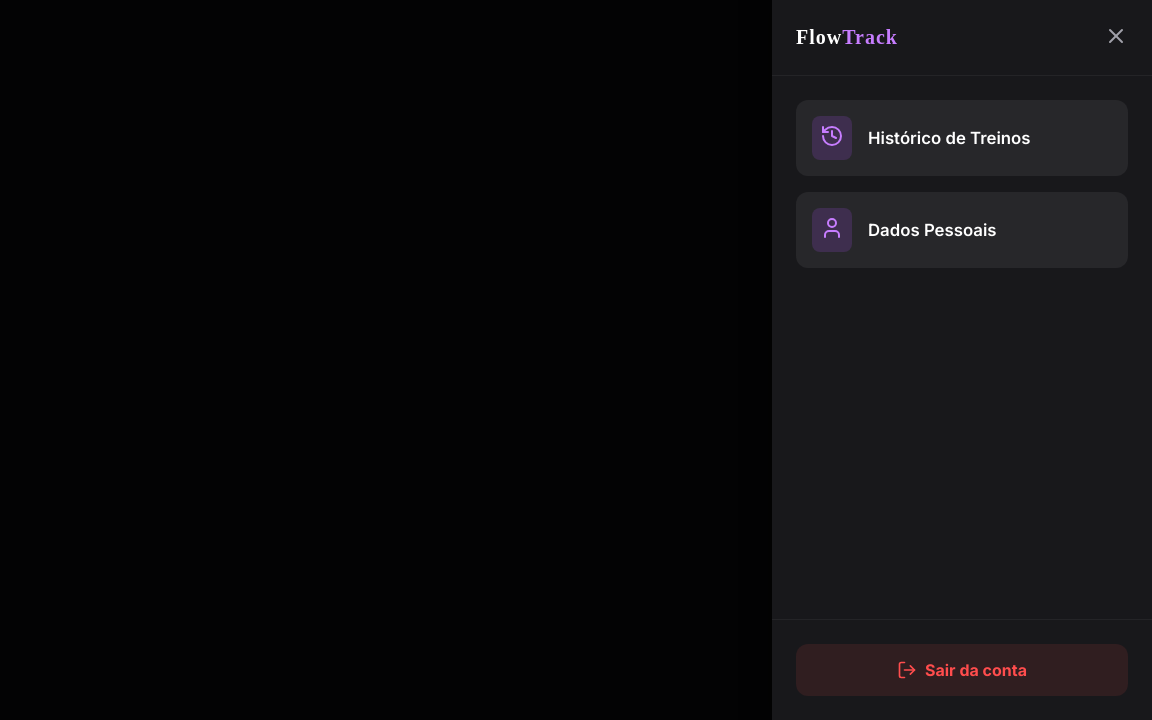
Scenario: SidebarMenu – navegação para perfil › deve voltar ao menu principal ao clicar em "Voltar"
This screenshot has width=1152, height=720.
# Vai para o perfil
Click the button "Dados Pessoais": coordinates (962, 230) [796,192,1128,268]
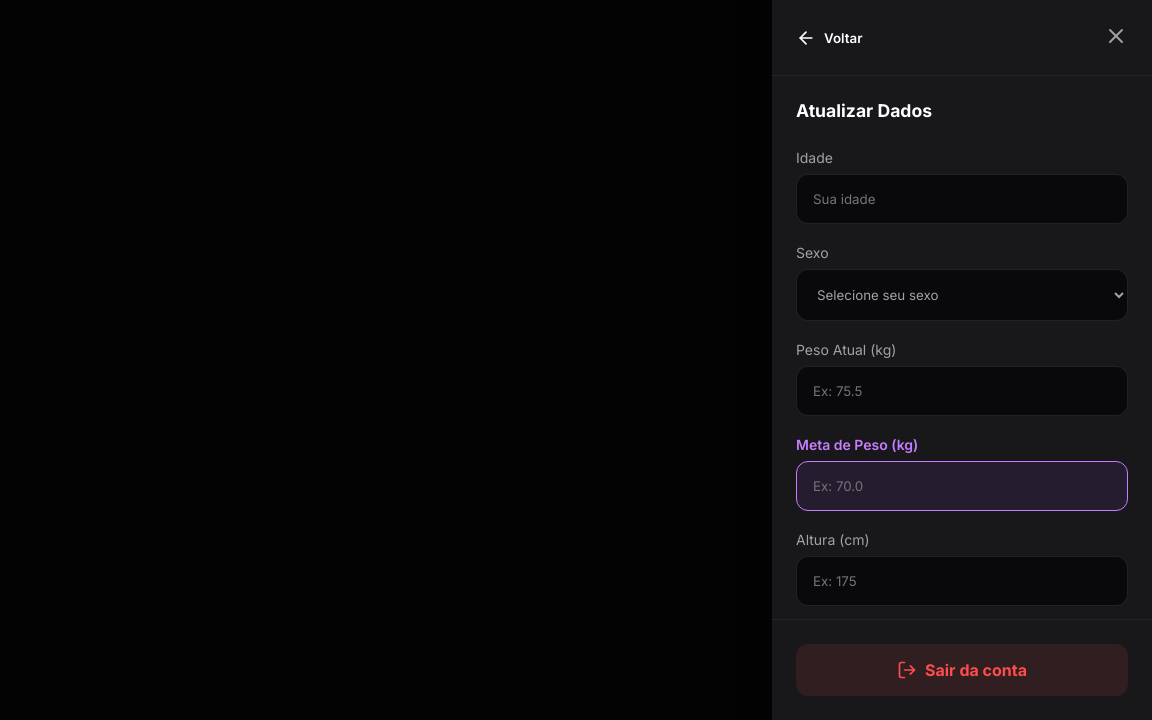
expect the heading "Atualizar Dados" is shown: met, box [796,100,932,121]
# Clica em voltar
Click the button "Voltar": coordinates (829, 38) [796,28,862,48]
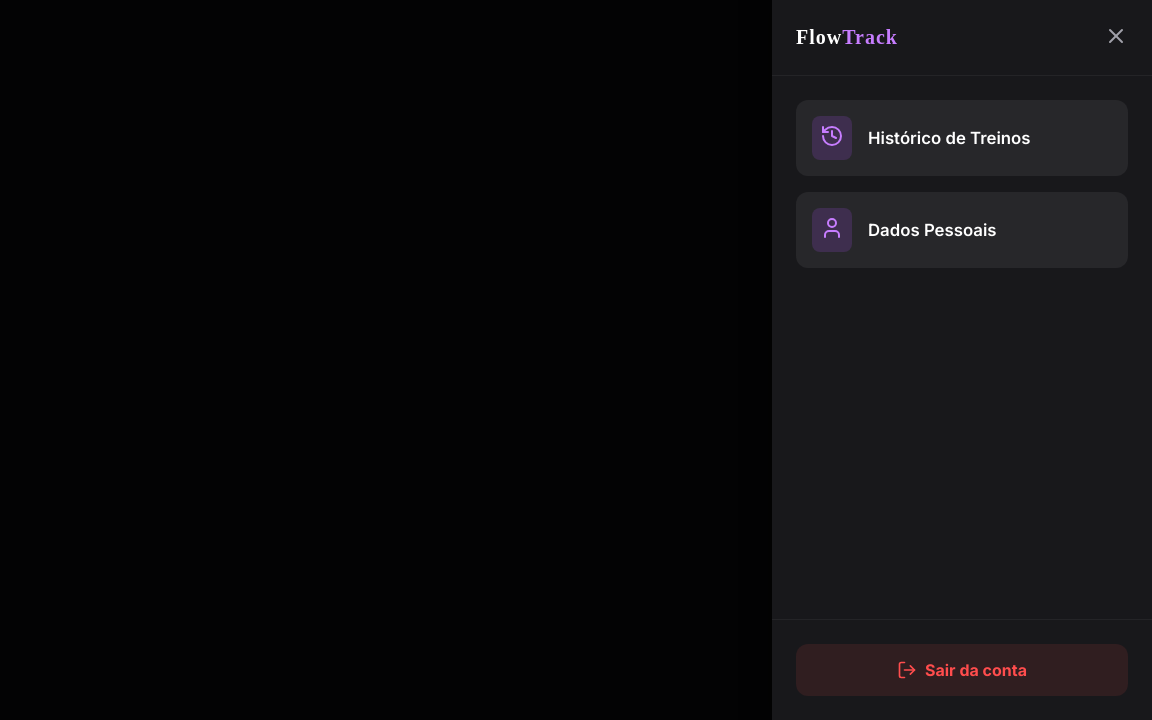
expect the button "Histórico de Treinos" is shown: met, box [796,100,1128,176]
expect the heading "Atualizar Dados" is gone: met
